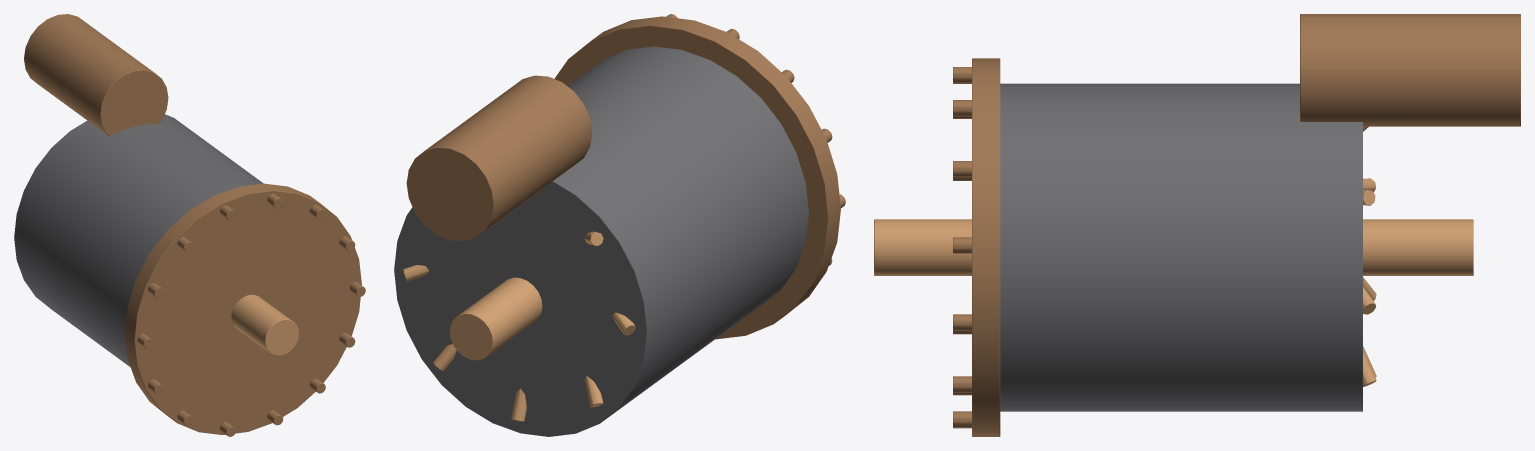
The model's file is LV_turbine_housing.fbx.
The picture shows the model from 3 angles, left to right: view 1: azimuth 30°, elevation 25°; view 2: azimuth 150°, elevation 25°; view 3: azimuth 270°, elevation 25°; orthographic projection. The views are drawn at different scales.
Visible parts, largest first — view 1: LV_turbine_housing; view 2: LV_turbine_housing; view 3: LV_turbine_housing.
Boxes of the visible parts, x1,y1,x2,y2 form: LV_turbine_housing: [14, 14, 365, 436]; LV_turbine_housing: [394, 14, 845, 436]; LV_turbine_housing: [874, 14, 1520, 436].
Size of the model in its own units: 1.2 by 1.4 by 2.05.
